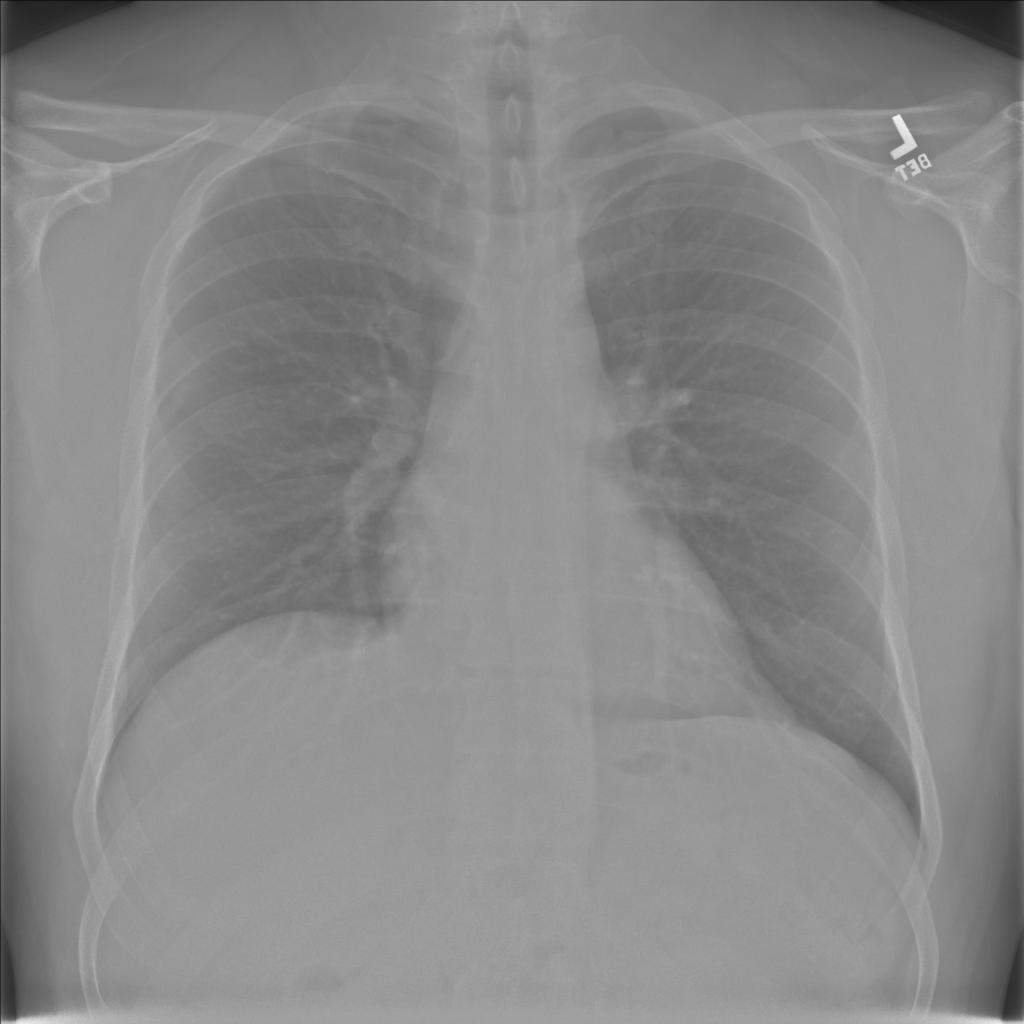Nodule: (116, 171, 147, 221), (132, 241, 145, 250)
